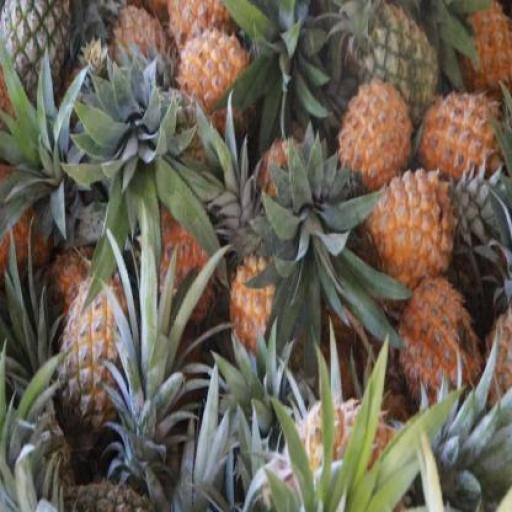------------------------------: (62, 285, 131, 437)
Pineapple - v8 v1: (398, 277, 488, 409), (368, 168, 454, 292), (338, 75, 415, 190), (418, 88, 501, 186), (176, 30, 249, 118)
